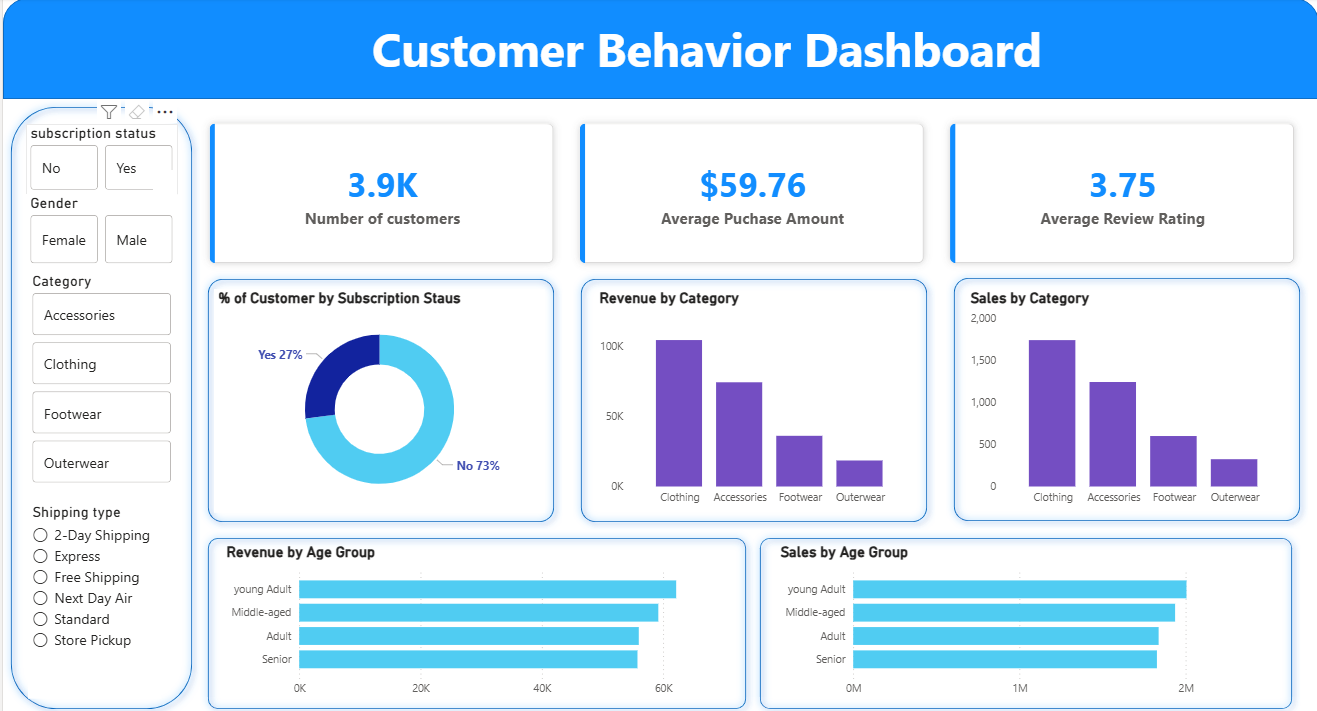

Layout of this report page (visuals, bound fields, positions):
{"tool":"powerbi","page":{"name":"Page 1","canvas":[1500,820],"ordinal":0},"visuals":[{"type":"cardVisual","fields":{"Data":["public customer.Number of customers","public customer.Average Puchase Amount","public customer.Average Review Rating"]},"box":[207.4,115.1,1292.6,215.4],"z":0},{"type":"shape","box":[0,0,1500,115.1],"z":1000},{"type":"textbox","box":[215.4,16,1174,150.5],"z":2000},{"type":"shape","box":[224.5,311,412.6,295.2],"z":3000},{"type":"donutChart","title":"% of Customer by Subscription Staus","fields":{"Category":["public customer.subscription_status"],"Y":["CountNonNull(public customer.customer_id)"]},"box":[240.5,331.5,377.3,255.3],"z":4000},{"type":"clusteredColumnChart","title":"Revenue by Category","fields":{"Y":["Sum(public customer.purchase_amount)"],"Category":["public customer.category"]},"box":[674.8,331.5,362.5,255.3],"z":5000},{"type":"clusteredColumnChart","title":"Sales by Category","fields":{"Y":["CountNonNull(public customer.customer_id)"],"Category":["public customer.category"]},"box":[1097.6,331.5,367,255.3],"z":6000},{"type":"shape","box":[649.7,311,412.6,295.2],"z":7000},{"type":"shape","box":[1074.8,310,412.6,295.2],"z":8000},{"type":"shape","box":[0,115.1,224.5,704.4],"z":9000},{"type":"advancedSlicerVisual","fields":{"Values":["public customer.subscription_status"]},"box":[26.2,143.6,173.3,80.9],"z":10000},{"type":"advancedSlicerVisual","fields":{"Values":["public customer.gender"]},"box":[26.2,223.4,173.3,84.3],"z":11000},{"type":"advancedSlicerVisual","fields":{"Values":["public customer.category"]},"box":[28.5,312.3,168.7,247.3],"z":12000},{"type":"listSlicer","fields":{"Values":["public customer.shipping_type"]},"box":[28.5,575.6,151.6,223.4],"z":13000},{"type":"clusteredBarChart","title":"Revenue by Age Group","fields":{"Y":["Sum(public customer.purchase_amount)"],"Category":["public customer.age_group"]},"box":[249.6,621.2,587,183.5],"z":14000},{"type":"shape","box":[224.5,606.4,631.5,213.1],"z":15000},{"type":"clusteredBarChart","title":"Sales by Age Group","fields":{"Y":["Sum(public customer.customer_id)"],"Category":["public customer.age_group"]},"box":[881.1,621.2,575.6,183.5],"z":17000},{"type":"shape","box":[853.7,606.4,624.6,213.1],"z":18000}]}

Visuals, with their boxes in screenshot pixels (x1, y1, x2, y2), scaled from the page's 1500x820 canvas onto the 1317x711 screenshot:
cardVisual - public customer.Number of customers x public customer.Average Puchase Amount: l=182, t=100, r=1316, b=287
shape: l=0, t=0, r=1316, b=100
textbox: l=189, t=14, r=1220, b=144
shape: l=197, t=270, r=559, b=526
"% of Customer by Subscription Staus" donutChart: l=211, t=287, r=542, b=509
"Revenue by Category" clusteredColumnChart: l=592, t=287, r=911, b=509
"Sales by Category" clusteredColumnChart: l=964, t=287, r=1286, b=509
shape: l=570, t=270, r=933, b=526
shape: l=944, t=269, r=1306, b=525
shape: l=0, t=100, r=197, b=710
advancedSlicerVisual - public customer.subscription_status: l=23, t=125, r=175, b=195
advancedSlicerVisual - public customer.gender: l=23, t=194, r=175, b=267
advancedSlicerVisual - public customer.category: l=25, t=271, r=173, b=485
listSlicer - public customer.shipping_type: l=25, t=499, r=158, b=693
"Revenue by Age Group" clusteredBarChart: l=219, t=539, r=735, b=698
shape: l=197, t=526, r=752, b=710
"Sales by Age Group" clusteredBarChart: l=774, t=539, r=1279, b=698
shape: l=750, t=526, r=1298, b=710
